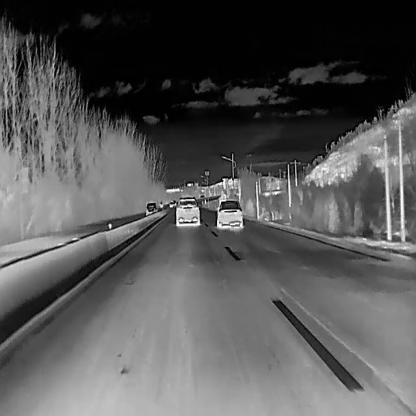car: (217, 200, 243, 229), (175, 196, 199, 224), (145, 202, 157, 215), (169, 200, 175, 207), (200, 195, 204, 198)
